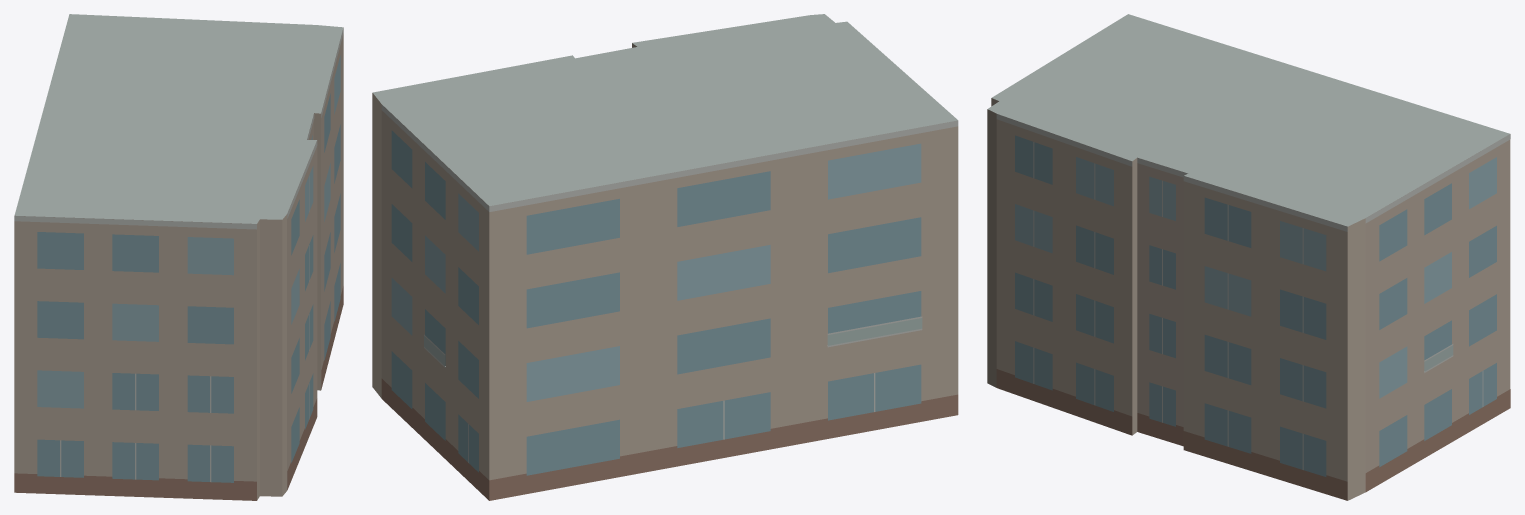
File: survey-upis-32944572.glb
3 views of the same model, side by side, from view 1: azimuth 30°, elevation 25°; view 2: azimuth 150°, elevation 25°; view 3: azimuth 270°, elevation 25° (orthographic). The views are drawn at different scales.
Parts seen in each view (by area): view 1: survey-upis-32944572.tmp; view 2: survey-upis-32944572.tmp; view 3: survey-upis-32944572.tmp.
Boxes of the visible parts, left/top/right/bottom form: survey-upis-32944572.tmp: left=14, top=14, right=343, bottom=500; survey-upis-32944572.tmp: left=372, top=14, right=958, bottom=500; survey-upis-32944572.tmp: left=987, top=14, right=1510, bottom=500.
Bounding box in the file's own units: 20.29 × 12.2 × 21.09.
